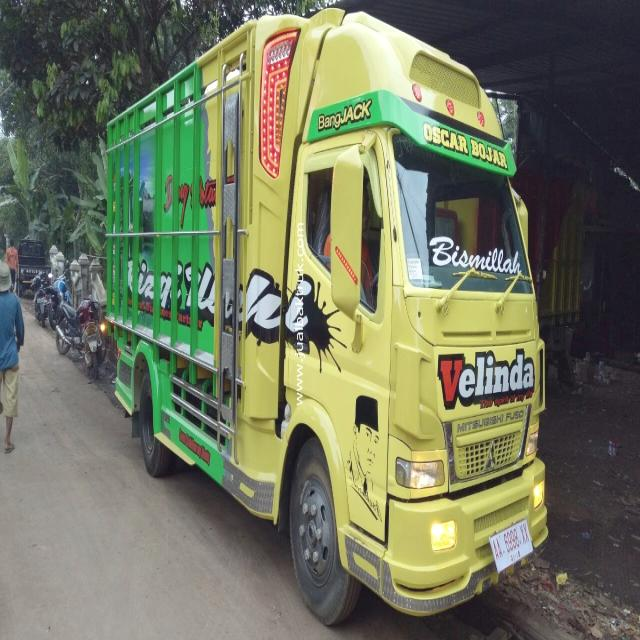truck: (107, 10, 550, 616)
